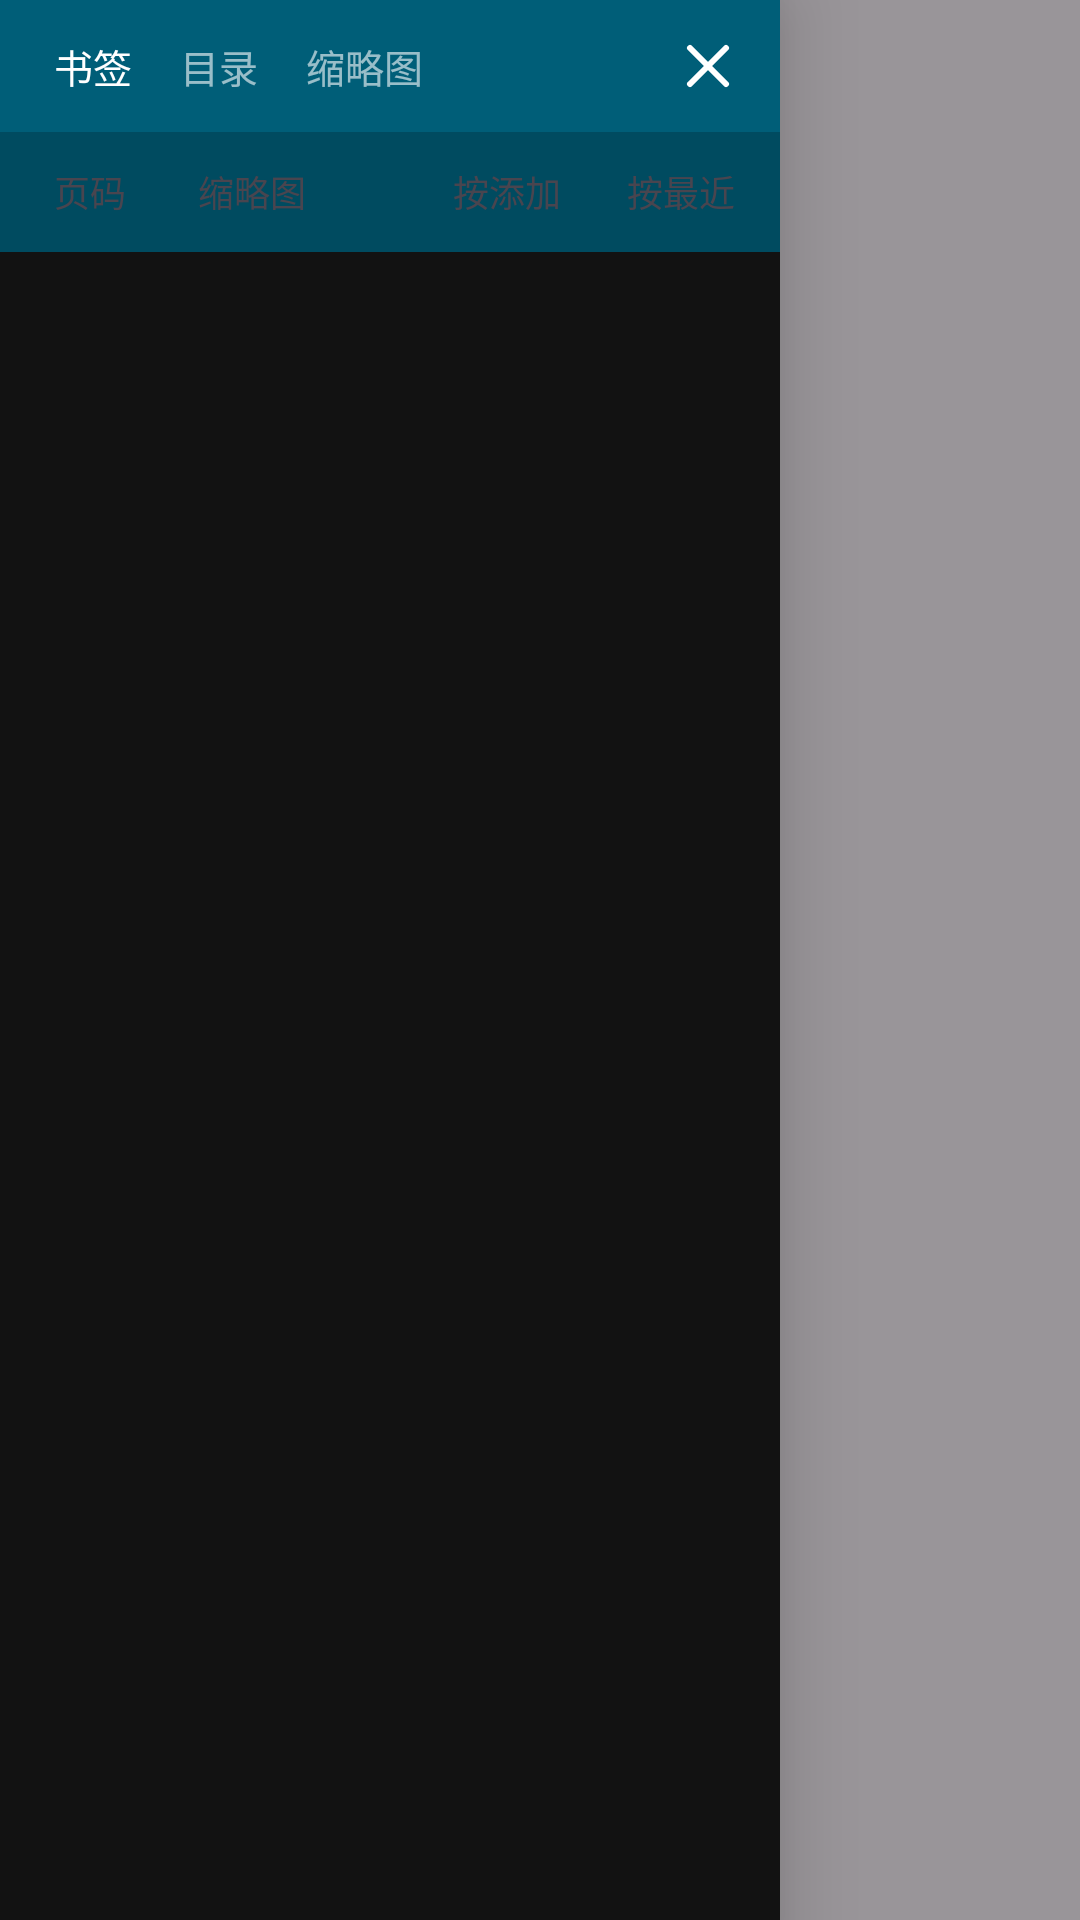

Where to tap for icons on this 1080w x 1920h app screen, as [x,y]:
取消: [708,66]
